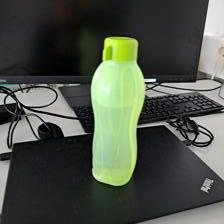bottle: (86, 33, 147, 188)
